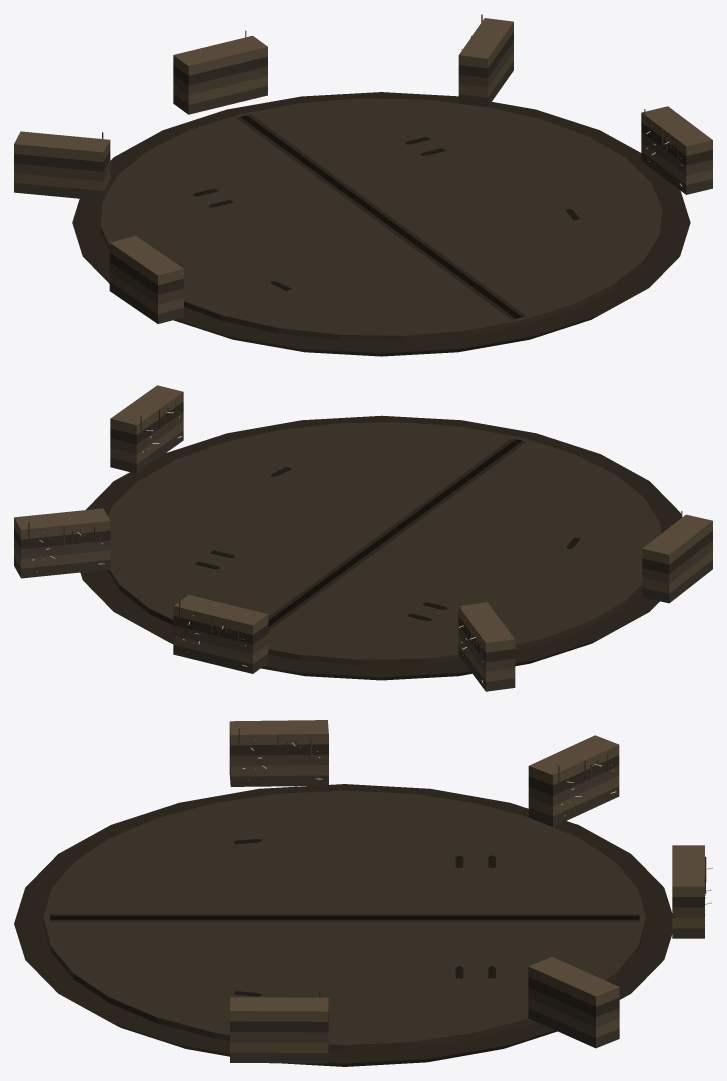
Rendered from s3_arena_b24.glb.
3 views of the same model, one above another, from view 1: azimuth 30°, elevation 25°; view 2: azimuth 150°, elevation 25°; view 3: azimuth 270°, elevation 25° (orthographic). The views are drawn at different scales.
Parts seen in each view (by area): view 1: s3_arena_b24; view 2: s3_arena_b24; view 3: s3_arena_b24.
Boxes of the visible parts, x1,y1,x2,y2 form: s3_arena_b24: [14, 14, 712, 356]; s3_arena_b24: [14, 385, 712, 691]; s3_arena_b24: [14, 720, 712, 1066].
Size of the model in its own units: 42.12 by 4.96 by 42.69.
